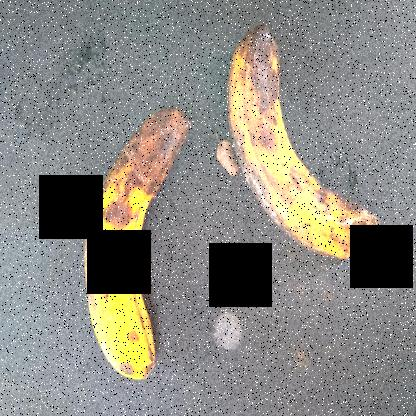rotten: (217, 10, 384, 278), (68, 92, 191, 404)
